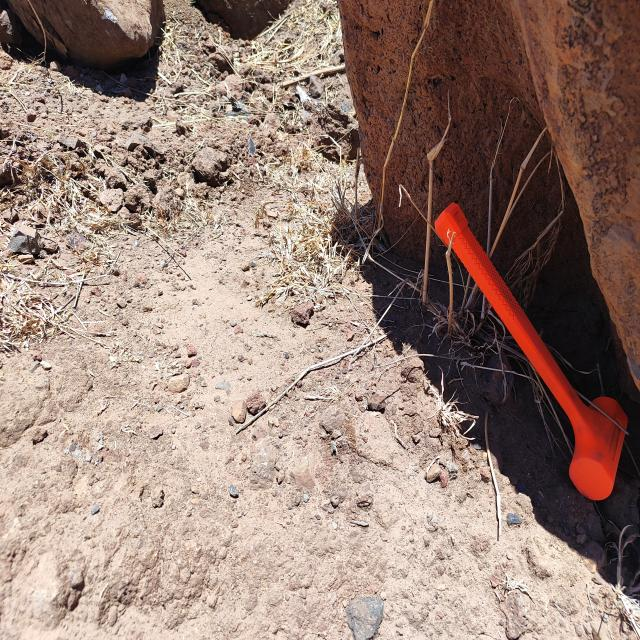Orange_hammer: (433, 200, 629, 502)
